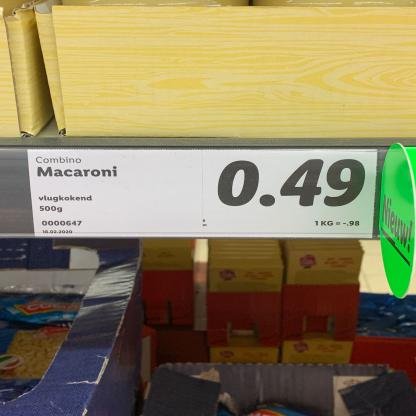prtg: (29, 150, 377, 240)
